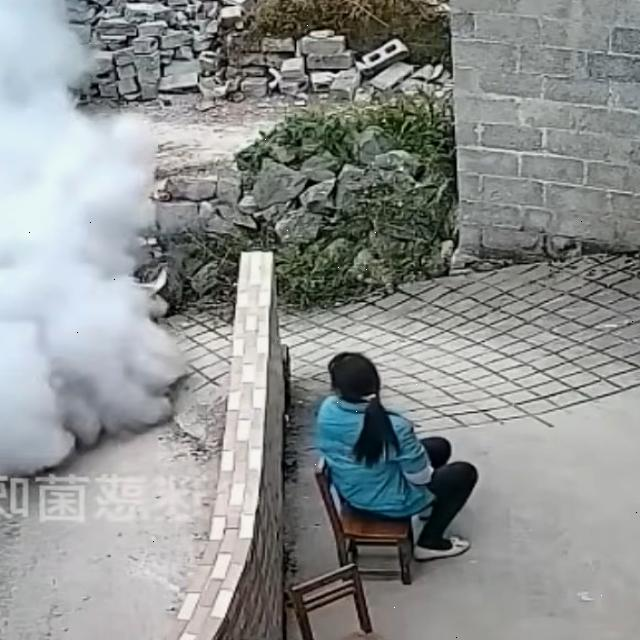sitting: (315, 353, 477, 560)
